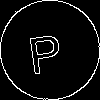P: (25, 25, 65, 75)
